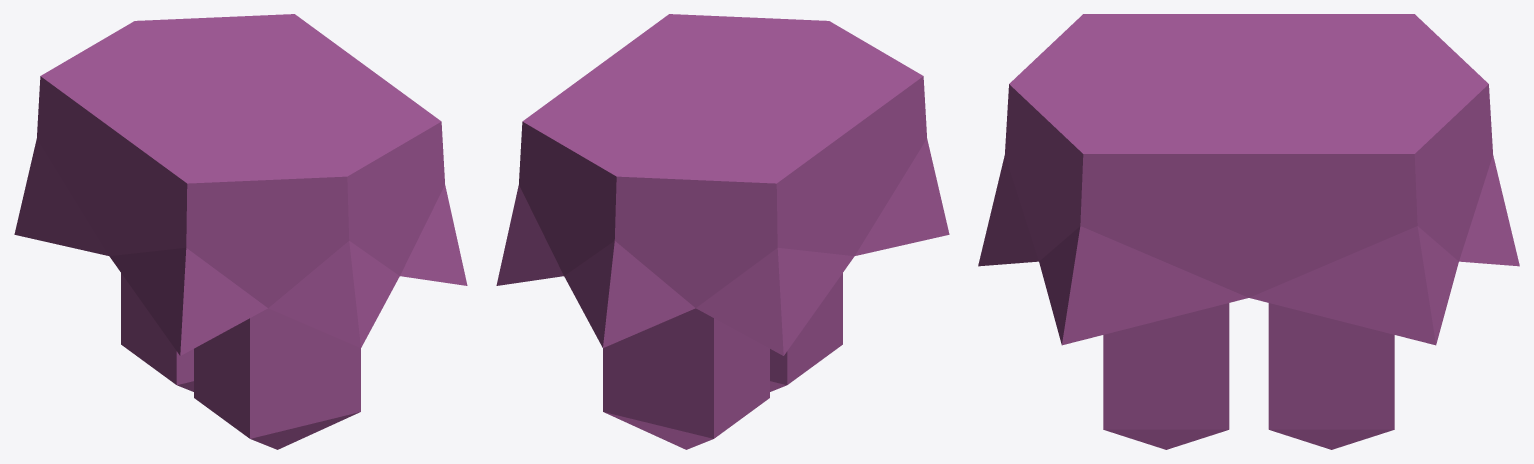
Rendered from CrystalLegs.fbx.
3 views of the same model, side by side, from view 1: azimuth 30°, elevation 25°; view 2: azimuth 150°, elevation 25°; view 3: azimuth 270°, elevation 25° (orthographic). The views are drawn at different scales.
Parts seen in each view (by area): view 1: Leg Armour Crystal; view 2: Leg Armour Crystal; view 3: Leg Armour Crystal.
Part boxes in pixels (<box>): Leg Armour Crystal: <box>14,14,467,449</box>; Leg Armour Crystal: <box>496,14,949,449</box>; Leg Armour Crystal: <box>978,14,1519,449</box>.
Bounding box in the file's own units: 222 × 240 × 322.
